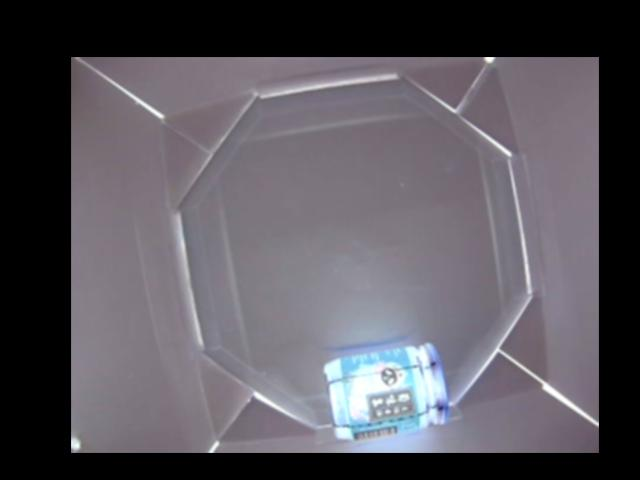Bottle: (320, 343, 449, 438)
